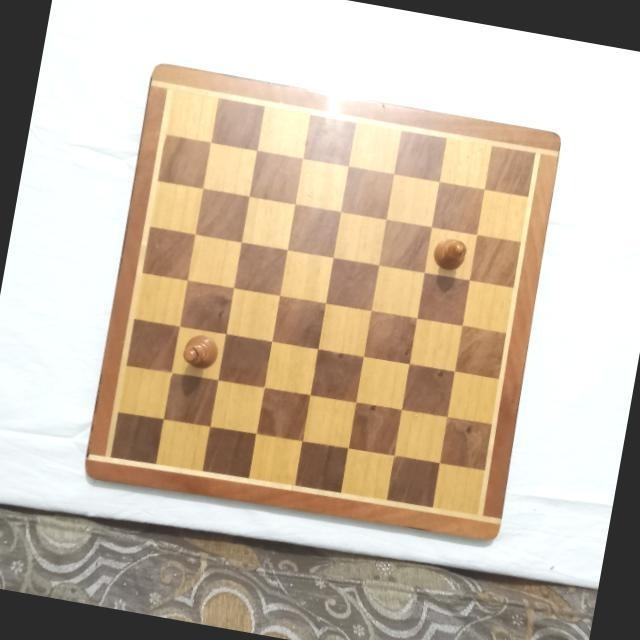white-bishop: (178, 331, 220, 373), (429, 233, 470, 274)
